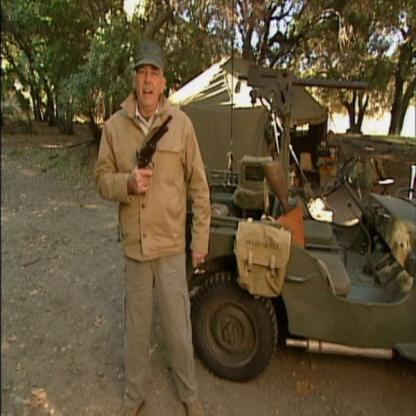Guns: (132, 112, 172, 178)
